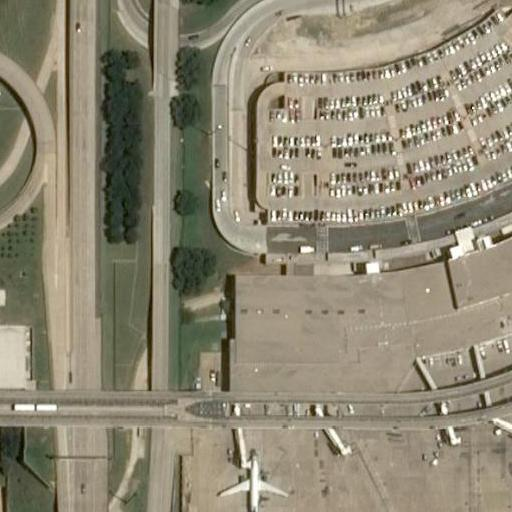Aircraft: (215, 456, 290, 512)
